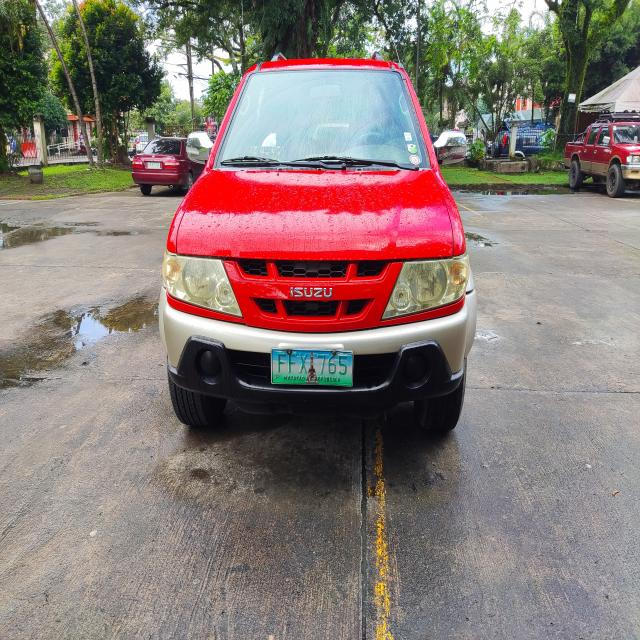plate: (269, 345, 355, 388)
